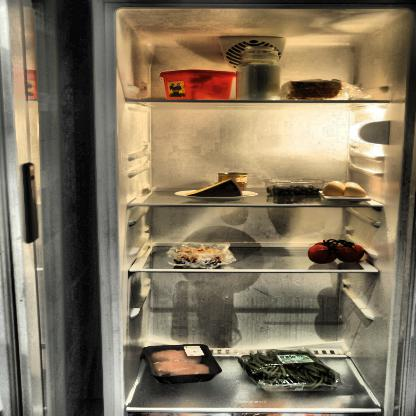blueberries: (265, 184, 327, 198)
butter: (160, 70, 237, 99)
cheese: (185, 178, 249, 198)
chicken: (147, 346, 219, 380)
corn: (218, 172, 248, 190)
eggs: (320, 180, 367, 198)
green_beans: (237, 349, 346, 388)
shrimp: (172, 244, 228, 266)
tomato: (309, 239, 367, 262)
